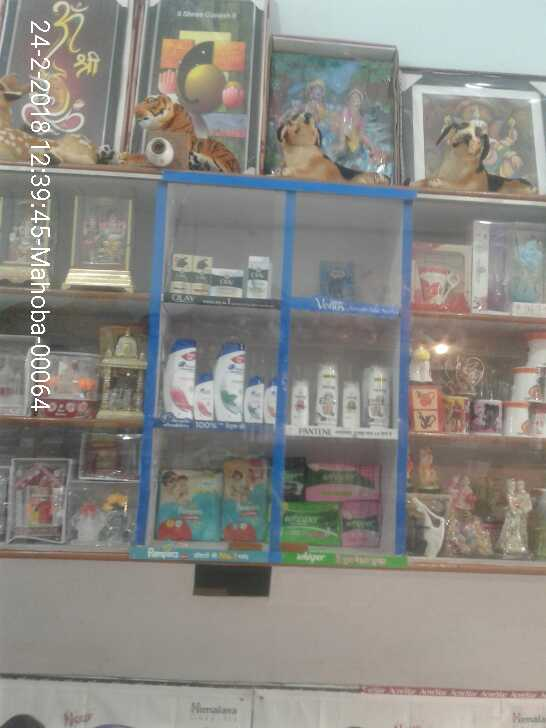venus: (321, 259, 353, 301)
